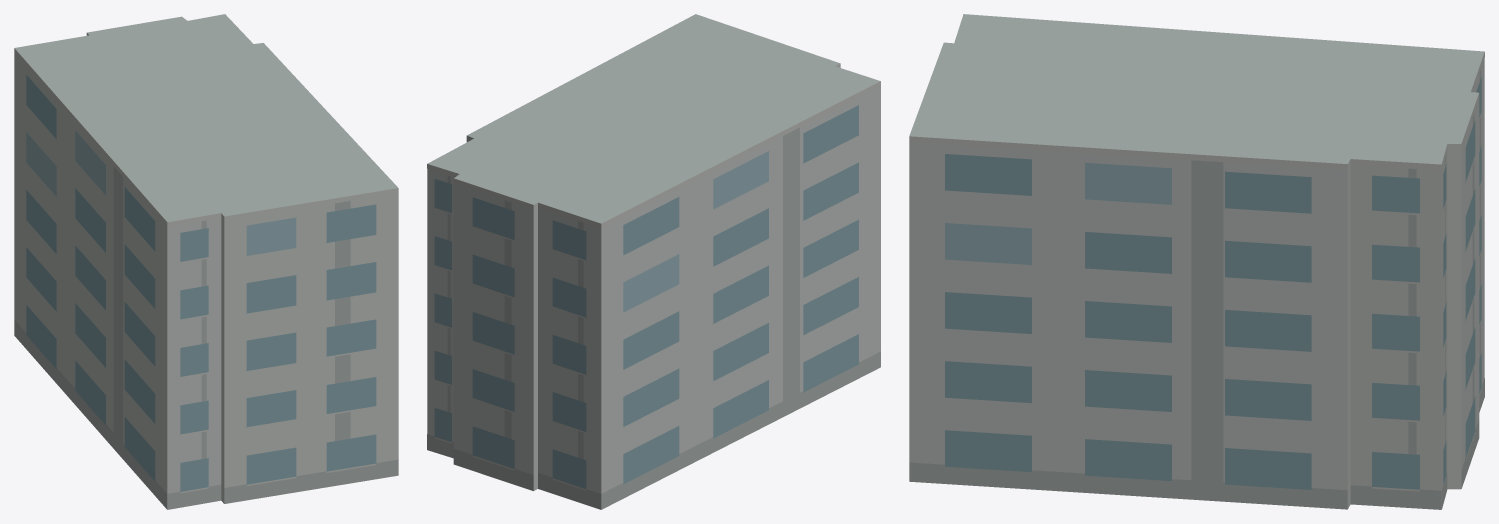
The model's file is survey-upis-33008654.glb.
3 views of the same model, side by side, from view 1: azimuth 30°, elevation 25°; view 2: azimuth 150°, elevation 25°; view 3: azimuth 270°, elevation 25° (orthographic). The views are drawn at different scales.
Parts seen in each view (by area): view 1: survey-upis-33008654.tmp; view 2: survey-upis-33008654.tmp; view 3: survey-upis-33008654.tmp.
Part boxes in pixels (bbox=[...]): survey-upis-33008654.tmp: bbox=[14, 14, 398, 509]; survey-upis-33008654.tmp: bbox=[427, 14, 880, 509]; survey-upis-33008654.tmp: bbox=[909, 14, 1484, 509].
Size of the model in its own units: 13.19 by 14.1 by 21.31.
